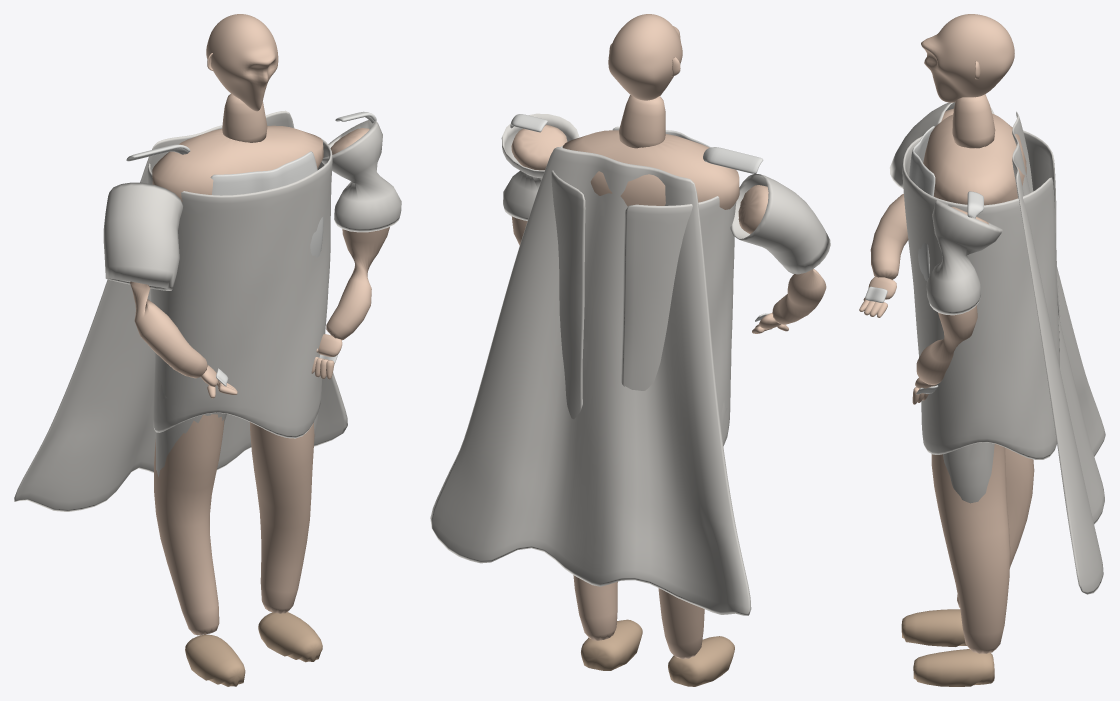
The model's file is observatory_brute.glb.
The picture shows the model from 3 angles, left to right: view 1: azimuth 30°, elevation 25°; view 2: azimuth 150°, elevation 25°; view 3: azimuth 270°, elevation 25°; orthographic projection. The views are drawn at different scales.
Parts seen in each view (by area): view 1: Robe, Cape, LegR, LegL, SleeveR, Body, SleeveL, Head, ArmL, ArmR, Plate, BootL (+3 smaller); view 2: Cape, Robe, Body, SleeveR, Head, ArmR, SleeveL, LegR, BootR, LegL, Neck, BootL (+2 smaller); view 3: Robe, Cape, LegL, Body, Head, SleeveL, BootL, ArmL, ArmR, BreechL, LegR, BootR (+4 smaller).
Part boxes in pixels (<box>): Robe: <box>147,138,332,438</box>; Cape: <box>14,110,347,511</box>; LegR: <box>154,414,224,635</box>; LegL: <box>249,422,314,613</box>; SleeveR: <box>103,182,183,290</box>; Body: <box>152,125,323,201</box>; SleeveL: <box>321,120,401,232</box>; Head: <box>206,14,278,111</box>; ArmL: <box>326,128,389,340</box>; ArmR: <box>130,281,207,378</box>; Plate: <box>210,151,323,257</box>; BootL: <box>258,612,322,662</box>; Cape: <box>430,147,751,615</box>; Robe: <box>551,146,736,446</box>; Body: <box>562,130,739,209</box>; SleeveR: <box>730,173,830,274</box>; Head: <box>608,14,682,100</box>; ArmR: <box>738,185,826,324</box>; SleeveL: <box>501,113,579,220</box>; LegR: <box>658,588,704,659</box>; BootR: <box>668,636,734,686</box>; LegL: <box>573,575,617,640</box>; Neck: <box>619,95,665,148</box>; BootL: <box>581,619,642,670</box>; Robe: <box>902,130,1060,459</box>; Cape: <box>1012,111,1105,594</box>; LegL: <box>931,444,1010,653</box>; Body: <box>923,113,1026,205</box>; Head: <box>921,14,1014,102</box>; SleeveL: <box>926,200,1002,315</box>; BootL: <box>913,649,994,686</box>; ArmL: <box>916,207,988,384</box>; ArmR: <box>870,108,953,279</box>; BreechL: <box>943,442,994,503</box>; LegR: <box>957,447,1034,607</box>; BootR: <box>901,609,966,646</box>.
Bounding box in the file's own units: 0.9769 × 1.84 × 0.6388.
